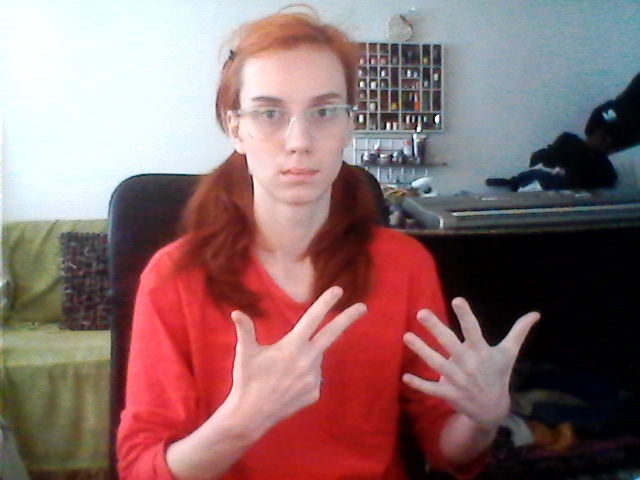osem: (230, 283, 545, 423)
